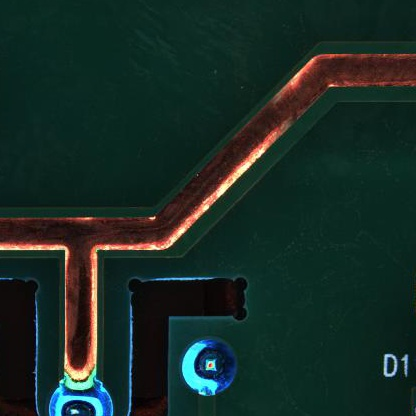spot: (180, 336, 239, 397)
